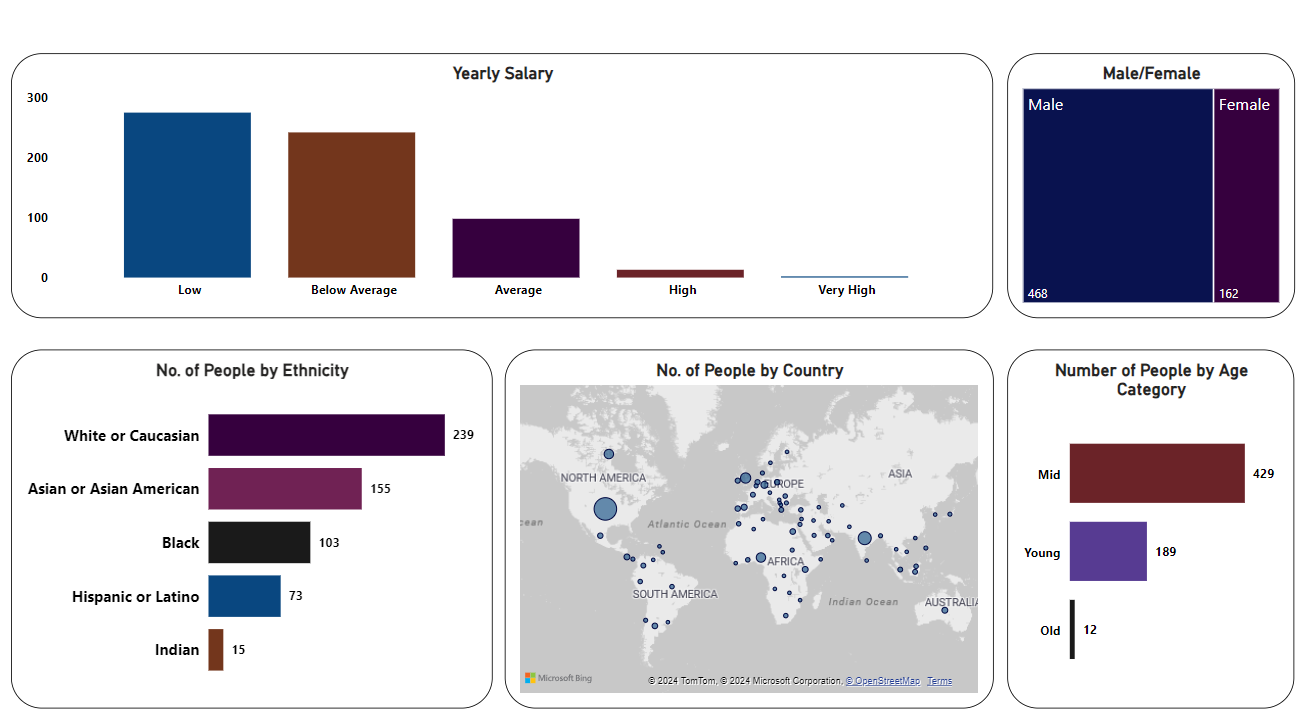

Layout of this report page (visuals, bound fields, positions):
{"tool":"powerbi","page":{"name":"R2","canvas":[1280,720],"ordinal":1},"visuals":[{"type":"treemap","title":"Male/Female","fields":{"Group":["Data Professional Survey.Q9 - Male/Female?"],"Values":["CountNonNull(Data Professional Survey.Q10 - Current Age)"]},"box":[989.3,59.9,281.3,259.2],"z":0},{"type":"clusteredBarChart","title":"Number of People by Age Category","fields":{"Category":["Data Professional Survey.Age Category"],"Y":["CountNonNull(Data Professional Survey.Q10 - Current Age)"]},"box":[989.3,349.9,280.8,351.4],"z":1000},{"type":"map","title":"No. of People by Country","fields":{"Category":["Data Professional Survey.Q11 - Which Country do you live in?"],"Size":["CountNonNull(Data Professional Survey.Unique ID)"]},"box":[497.7,349.7,478.1,351],"z":2000},{"type":"clusteredBarChart","title":"No. of People by Ethnicity","fields":{"Category":["Data Professional Survey.Q13 - Ethnicity"],"Y":["CountNonNull(Data Professional Survey.Unique ID)"]},"box":[14.4,349.9,470.9,351.4],"z":3000},{"type":"clusteredColumnChart","title":"Yearly Salary","fields":{"Y":["CountNonNull(Data Professional Survey.Unique ID)"],"Category":["Data Professional Survey.Q3 - Current Yearly Salary (in USD)"]},"box":[14.7,59.9,961.1,259.2],"z":4000}]}

Visuals, with their boxes in screenshot pixels (x1, y1, x2, y2), scaled from the page's 1280x720 canvas onto the 1302x721 screenshot:
"Male/Female" treemap: 1006:60:1292:320
"Number of People by Age Category" clusteredBarChart: 1006:350:1292:702
"No. of People by Country" map: 506:350:993:702
"No. of People by Ethnicity" clusteredBarChart: 15:350:494:702
"Yearly Salary" clusteredColumnChart: 15:60:993:320
